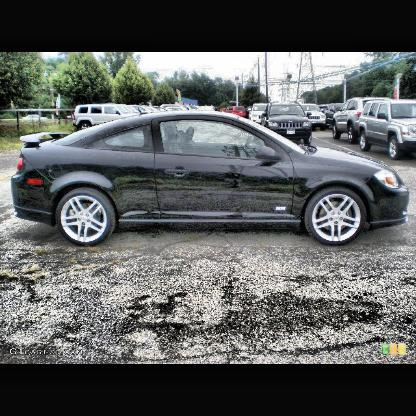Chevrolet Cobalt SS 2010: (10, 111, 411, 250)
